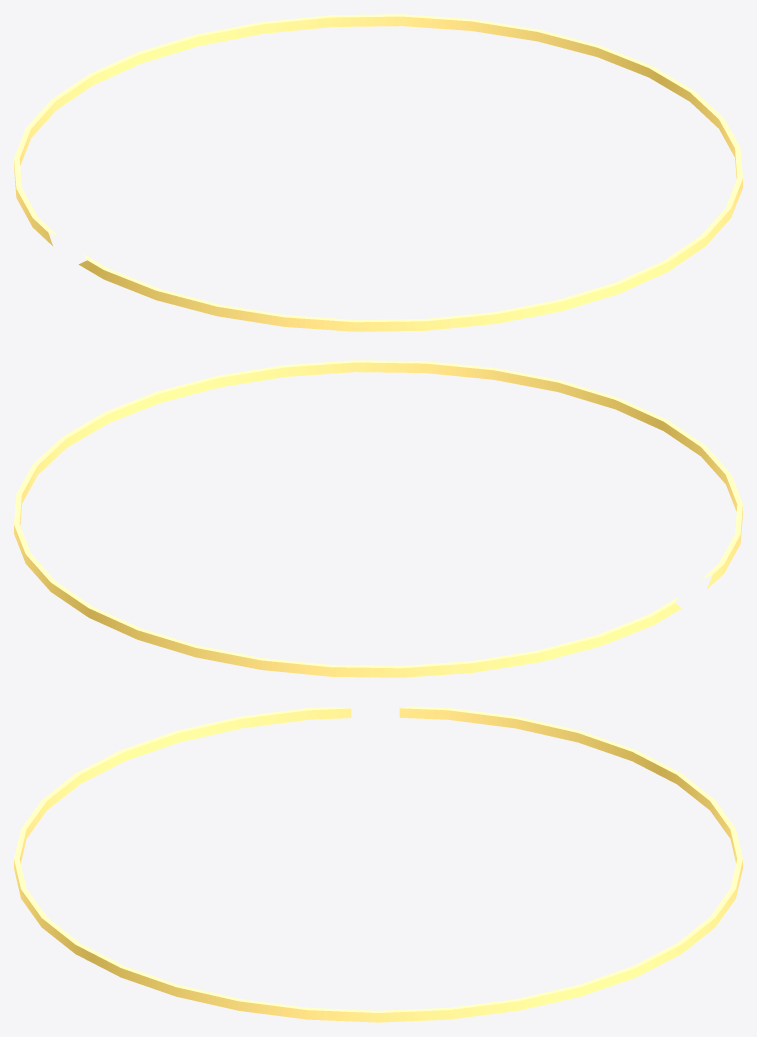
3 views of the same model, one above another, from view 1: azimuth 30°, elevation 25°; view 2: azimuth 150°, elevation 25°; view 3: azimuth 270°, elevation 25° (orthographic).
Parts seen in each view (by area): view 1: Circle3; view 2: Circle3; view 3: Circle3.
Boxes of the visible parts, x1,y1,x2,y2 form: Circle3: (14, 14, 742, 331); Circle3: (14, 360, 742, 677); Circle3: (14, 706, 742, 1022).
Bounding box in the file's own units: 7.25 × 0.1045 × 7.27.
